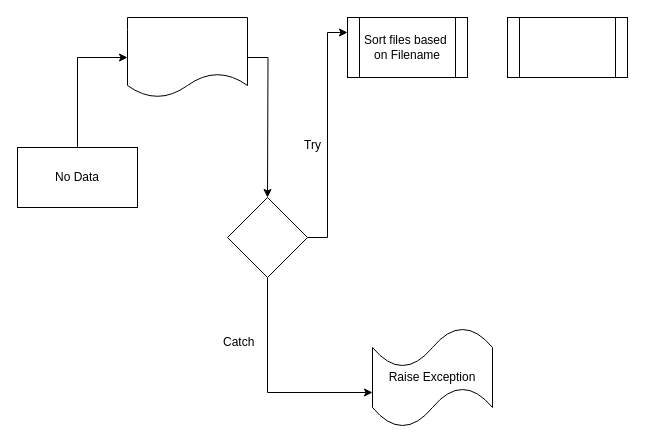
This 645x445 diagram has some shape labels left out. The shapes that lost their labels are listed below. From the top down, each one's centre as x and y in pixels, then its label:
At (x=187, y=57): "SubProcess : [MED] (sub) SET Context Facade".
At (x=267, y=237): "Try/Catch".
